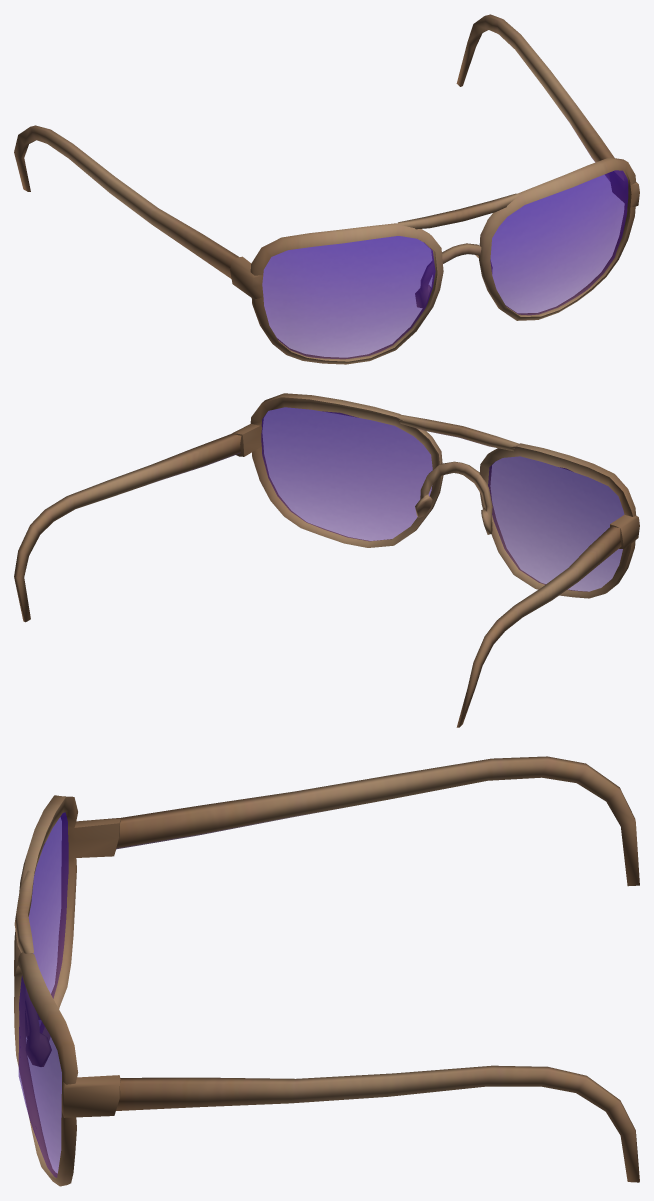
3 renders of one model, top to bottom at view 1: azimuth 30°, elevation 25°; view 2: azimuth 150°, elevation 25°; view 3: azimuth 270°, elevation 25°, orthographic. The views are drawn at different scales.
Visible parts, largest first — view 1: Wolf3D_Glasses; view 2: Wolf3D_Glasses; view 3: Wolf3D_Glasses.
Boxes of the visible parts, x1=… form: Wolf3D_Glasses: x1=14, y1=14, x2=639, y2=364; Wolf3D_Glasses: x1=14, y1=393, x2=639, y2=727; Wolf3D_Glasses: x1=14, y1=756, x2=639, y2=1186.
Bounding box in the file's own units: 0.1637 × 0.047 × 0.1371.
1 material, 1 textured.
